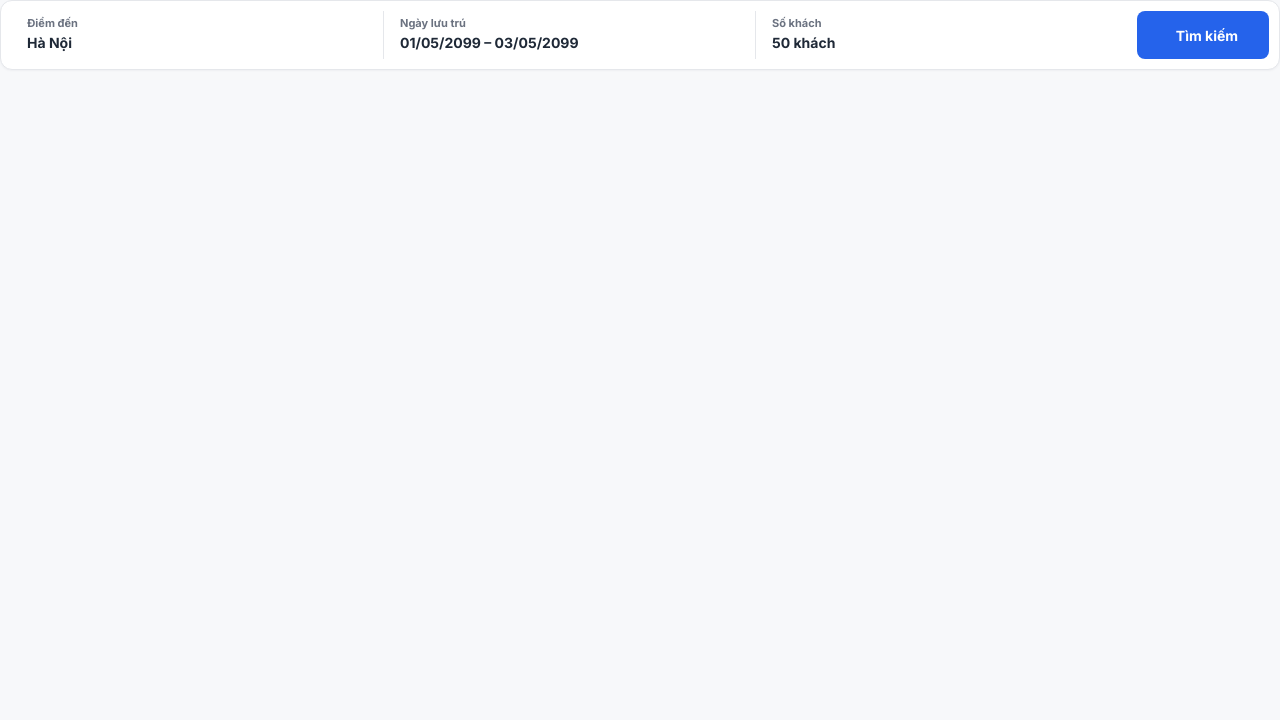
Test: TravelSearchBar › does not allow the guest count to exceed 50
This screenshot has width=1280, height=720.
Click the button "Số khách 50 khách": (797, 23) top-left (756, 11), bottom-right (1127, 59)
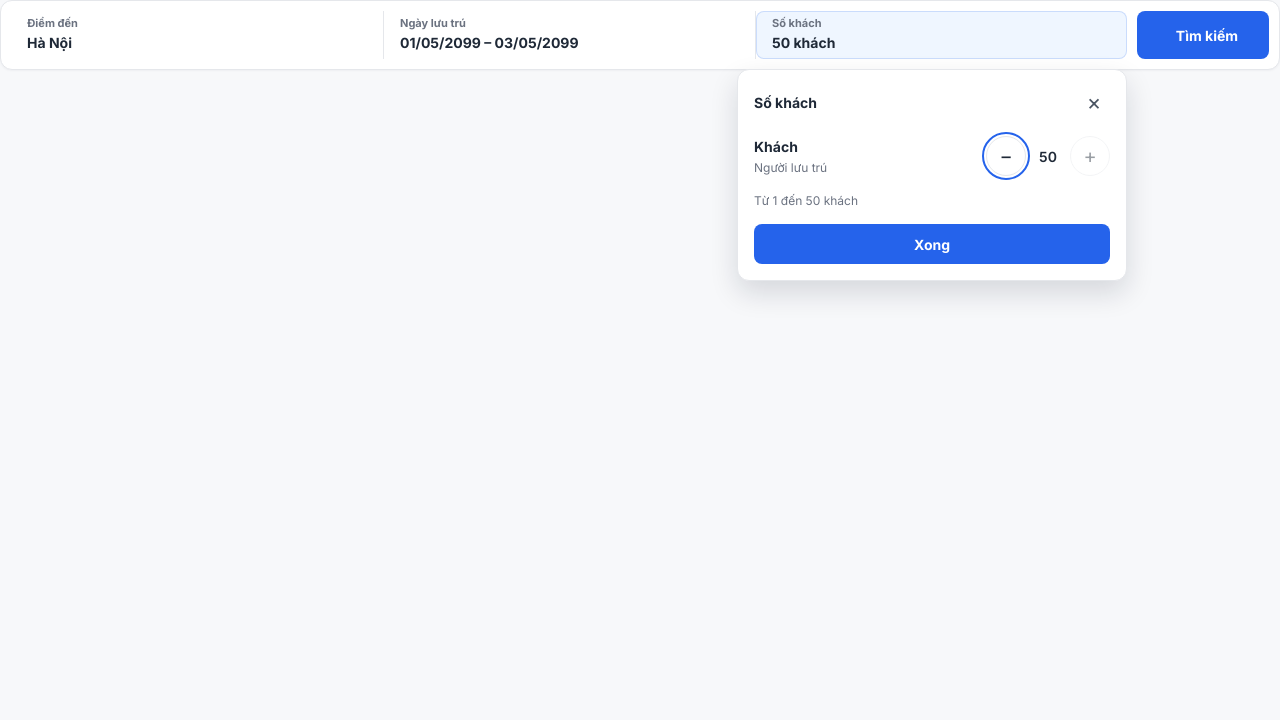
Expected: the button named "Tăng khách" is disabled, top-left (1070, 136), bottom-right (1110, 176)
